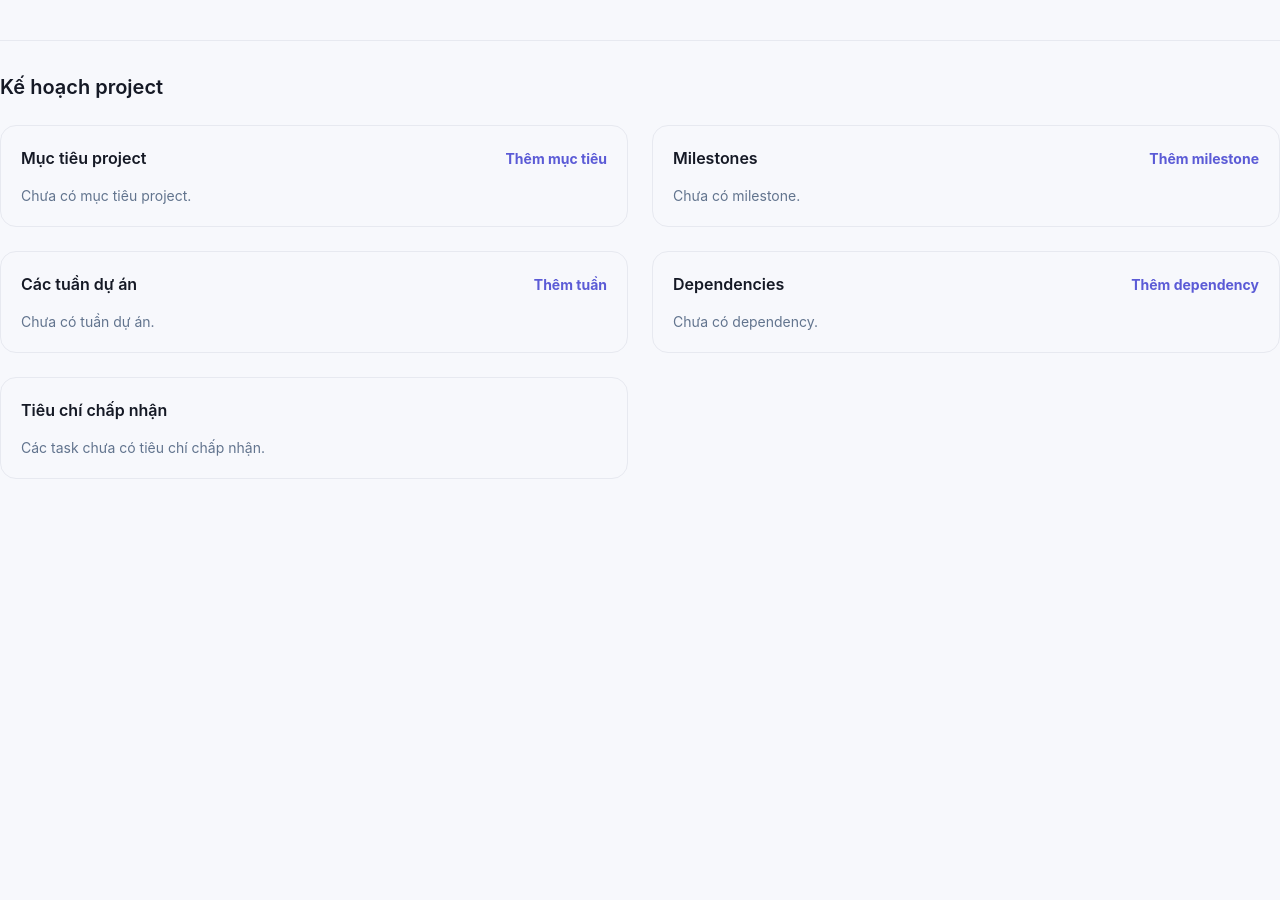
Scenario: ProjectPlanPanel › reuses a Goal idempotency key after an uncertain network failure
The image size is (1280, 900).
Click the button "Thêm mục tiêu": click(556, 158) 506,148 -> 607,168
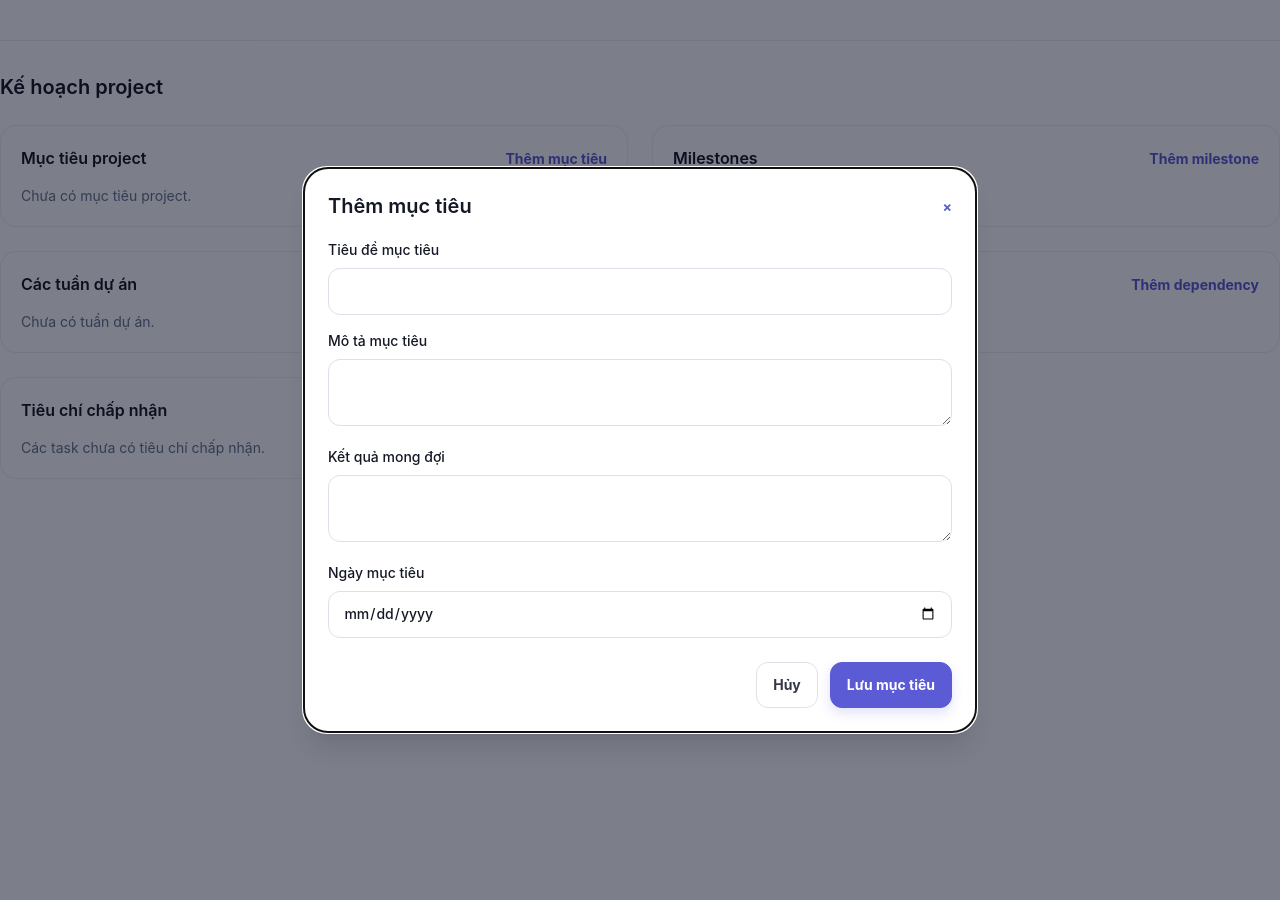
In the field labelled "Tiêu đề mục tiêu": (640, 292) 328,268 -> 952,315, type "Launch service"
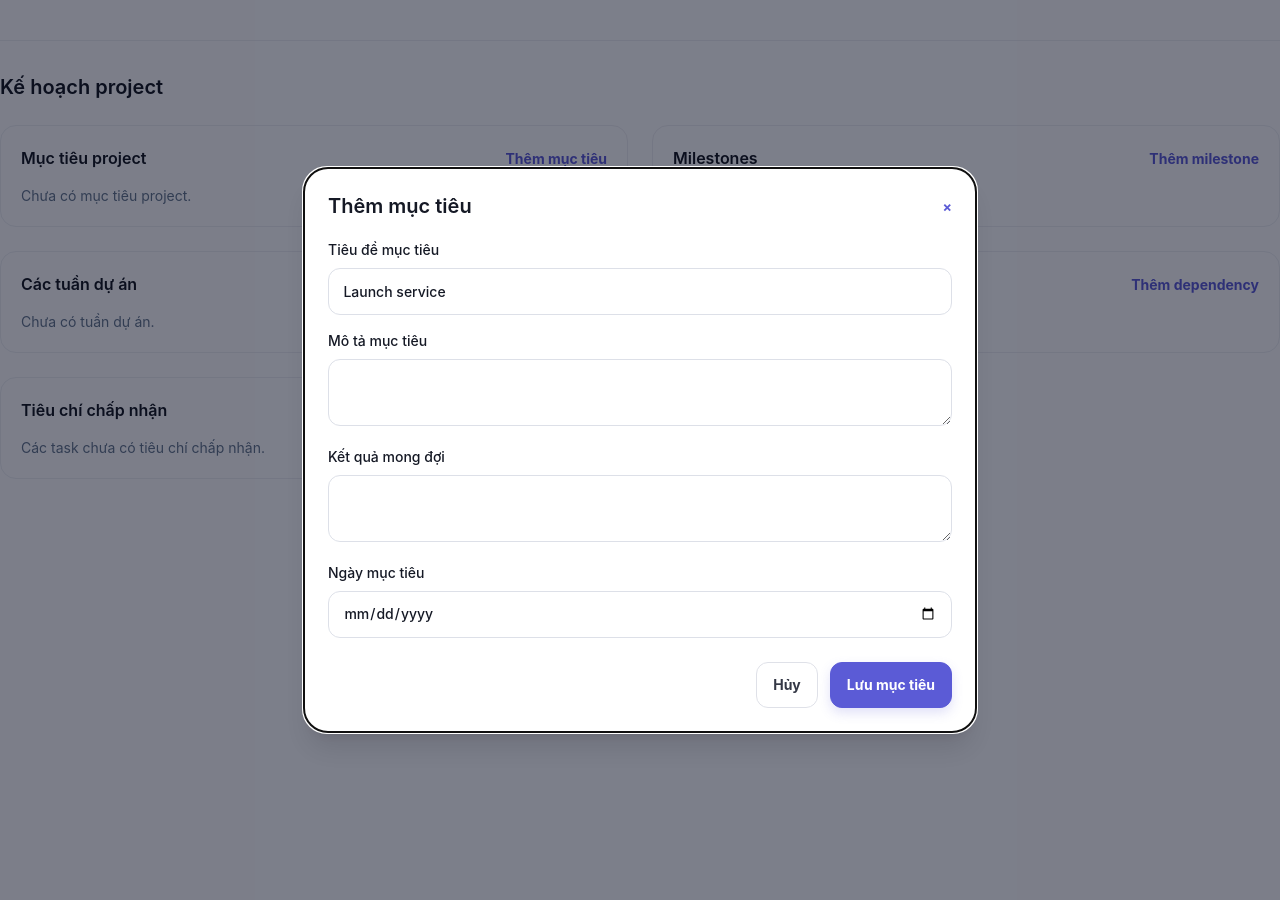
Click the button "Lưu mục tiêu": click(891, 685) 830,662 -> 952,708
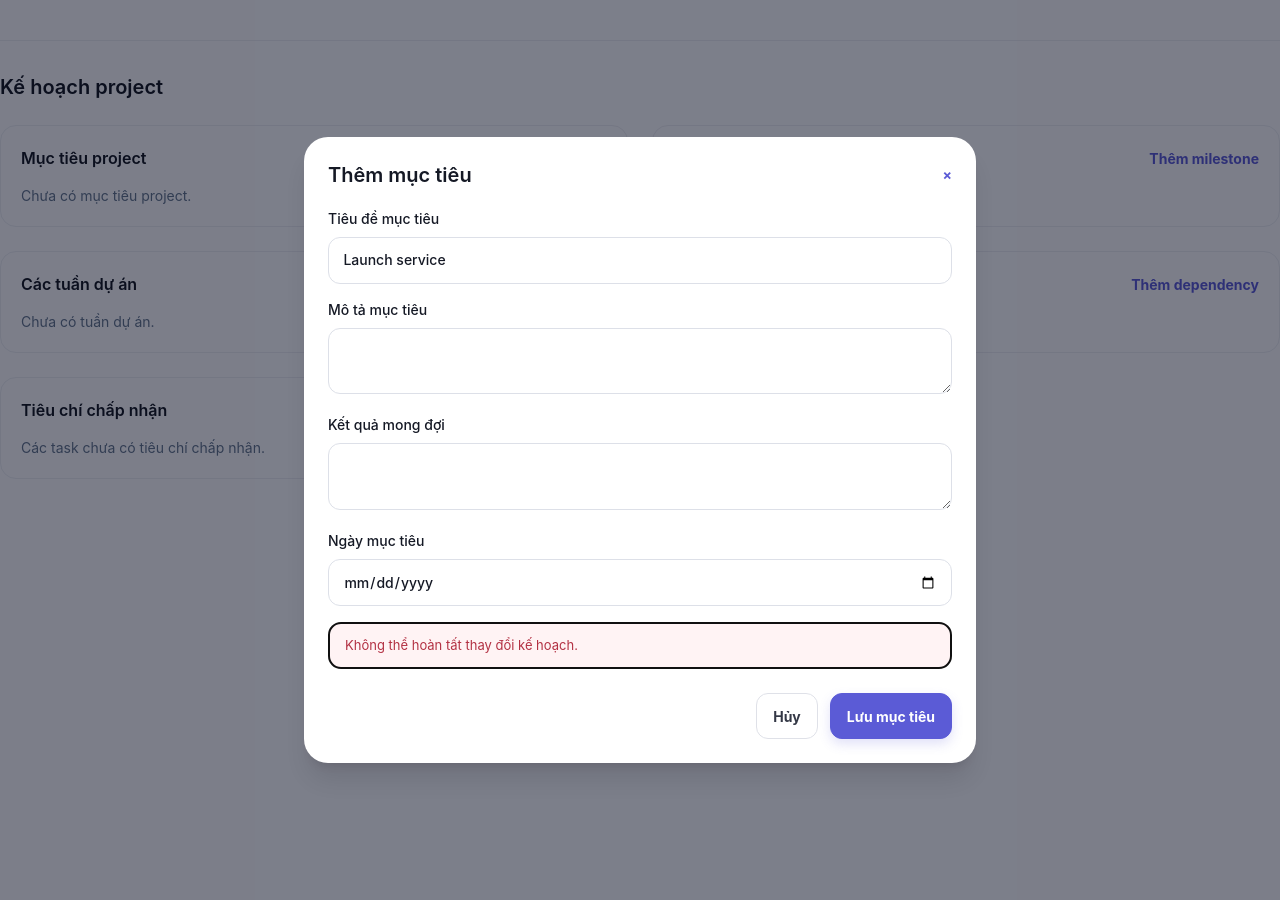
Expected: the message "Không thể hoàn tất thay đổi kế hoạch." is shown, 328,622 -> 952,669
Click the button "Lưu mục tiêu": click(891, 716) 830,693 -> 952,739
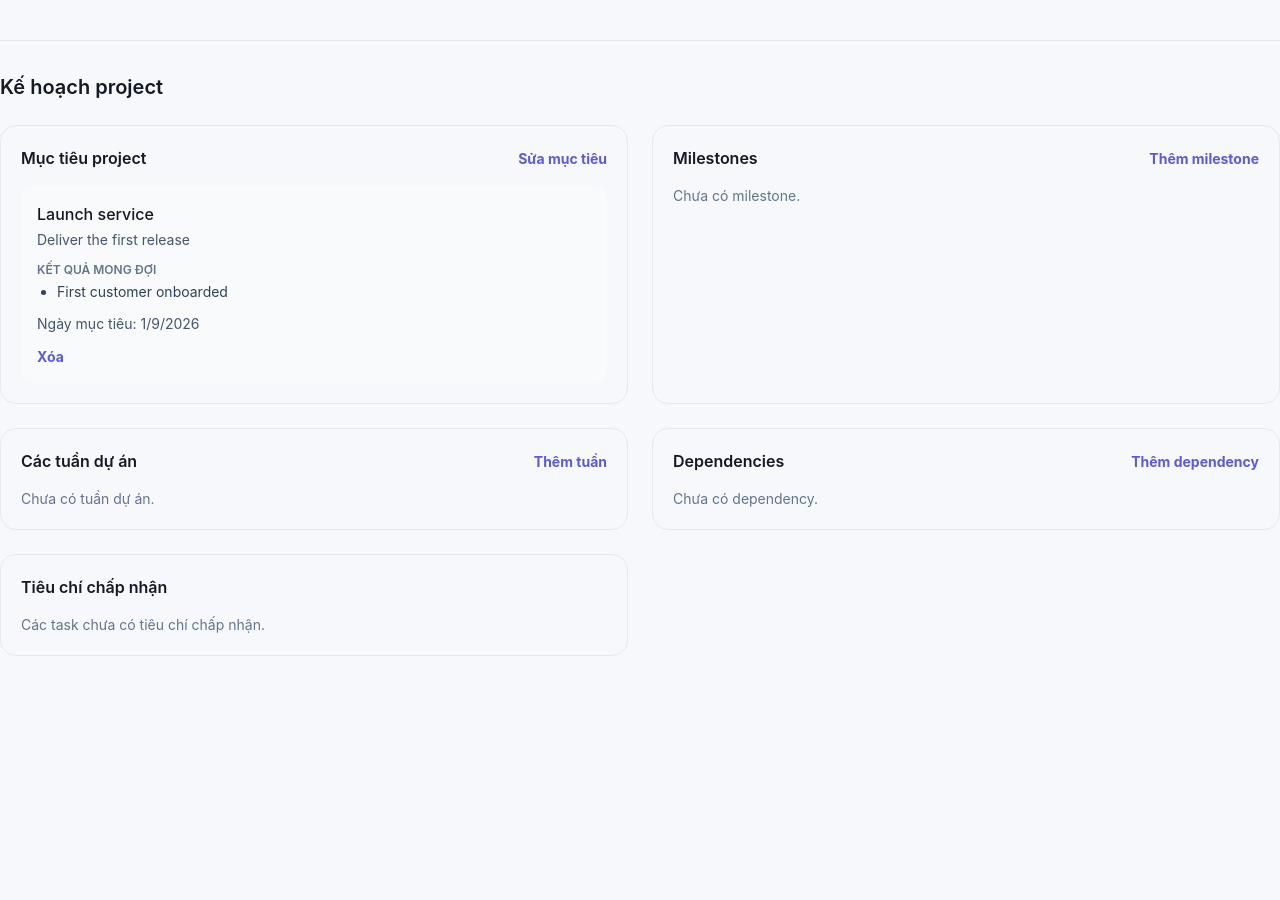
Expected: the text "Launch service" is shown, 37,204 -> 154,224
